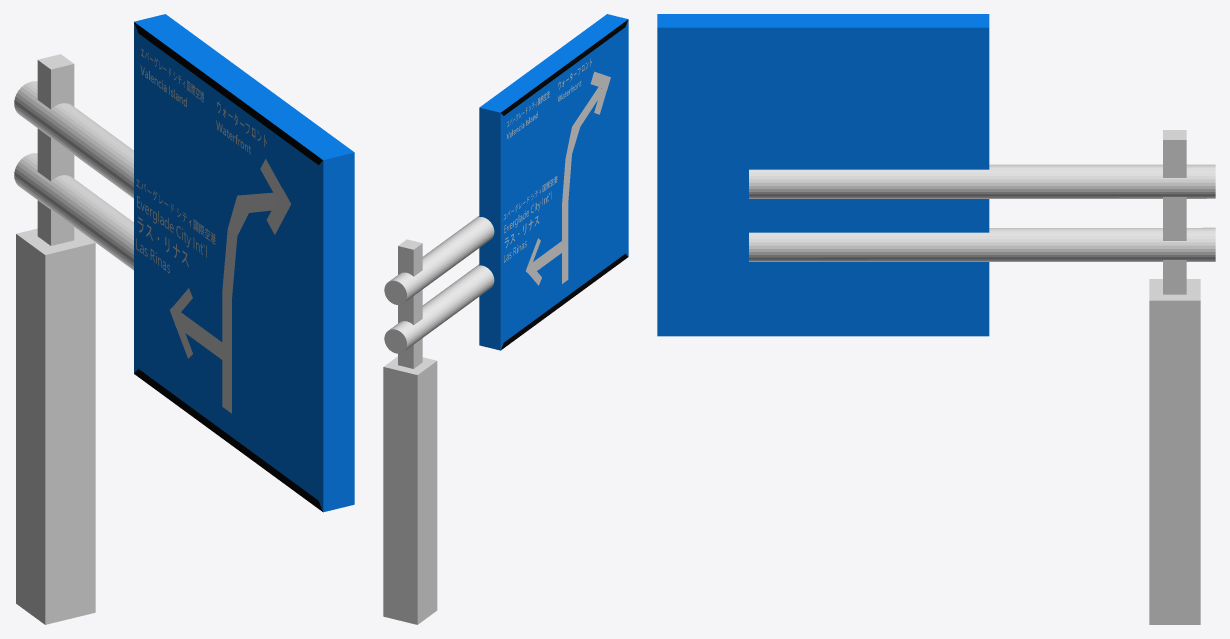
File: japantown_sign_12.fbx
The picture shows the model from 3 angles, left to right: view 1: azimuth 30°, elevation 25°; view 2: azimuth 150°, elevation 25°; view 3: azimuth 270°, elevation 25°; orthographic projection. The views are drawn at different scales.
Visible parts, largest first — view 1: Cube.003, Cube, Cylinder, Cylinder.001, Plane, Plane.001, Plane.005; view 2: Cube.003, Cube, Cylinder.001, Cylinder, Plane, Plane.001; view 3: Cube.003, Cube, Cylinder, Cylinder.001.
Boxes of the visible parts, x1,y1,x2,y2 form: Cube.003: [134, 14, 354, 512]; Cube: [16, 54, 95, 624]; Cylinder: [14, 81, 133, 198]; Cylinder.001: [14, 153, 133, 270]; Plane: [222, 192, 276, 413]; Plane.001: [175, 309, 222, 359]; Plane.005: [260, 159, 290, 213]; Cube.003: [479, 14, 628, 350]; Cube: [383, 239, 437, 624]; Cylinder.001: [384, 264, 494, 353]; Cylinder: [384, 216, 494, 304]; Plane: [562, 87, 600, 283]; Plane.001: [531, 241, 561, 270]; Cube.003: [657, 14, 989, 336]; Cube: [1149, 130, 1200, 624]; Cylinder: [749, 164, 1215, 198]; Cylinder.001: [749, 227, 1215, 261].
Bounding box in the file's own units: 6.7 × 76.11 × 65.5.
